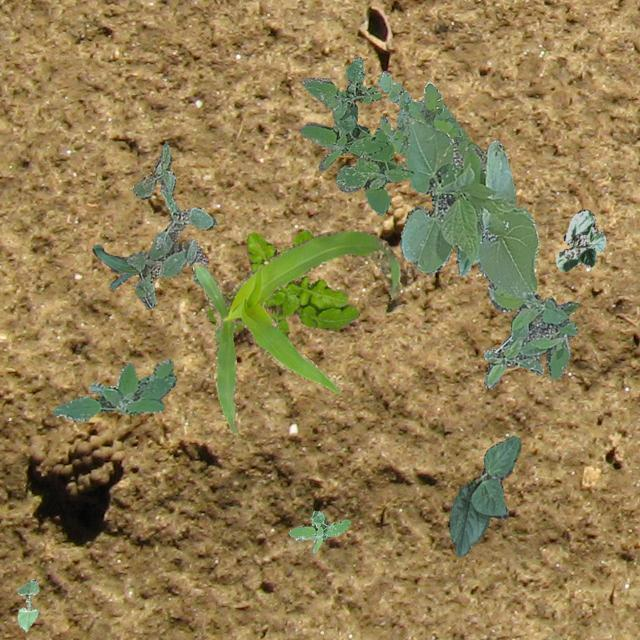crop: (192, 228, 400, 434), (400, 115, 538, 298), (446, 434, 520, 556), (554, 208, 604, 270), (91, 244, 137, 288), (15, 578, 38, 630)
weed: (298, 56, 412, 214), (204, 230, 358, 338), (126, 140, 217, 308), (482, 281, 578, 388), (377, 70, 482, 156), (51, 358, 176, 422), (288, 509, 349, 552)
